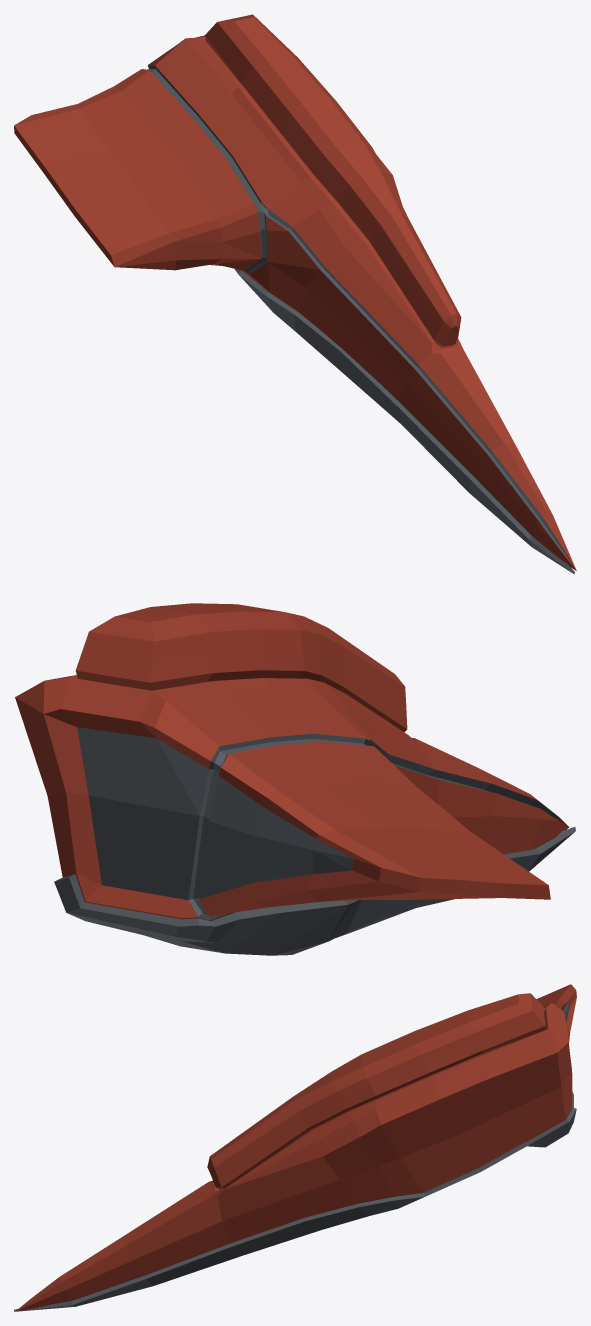
File: Fighter_03_Wing_Bottom_Right_Red.fbx
The picture shows the model from 3 angles, top to bottom: view 1: azimuth 30°, elevation 25°; view 2: azimuth 150°, elevation 25°; view 3: azimuth 270°, elevation 25°; orthographic projection. The views are drawn at different scales.
Parts seen in each view (by area): view 1: Fighter_03_Wing_Bottom_Right_Red; view 2: Fighter_03_Wing_Bottom_Right_Red; view 3: Fighter_03_Wing_Bottom_Right_Red.
Part boxes in pixels (x1,y1,x2,y2): Fighter_03_Wing_Bottom_Right_Red: (14,14,576,574); Fighter_03_Wing_Bottom_Right_Red: (15,603,575,955); Fighter_03_Wing_Bottom_Right_Red: (14,984,576,1311).
Size of the model in its own units: 354 by 440 by 752.
2 materials, 2 textured.
